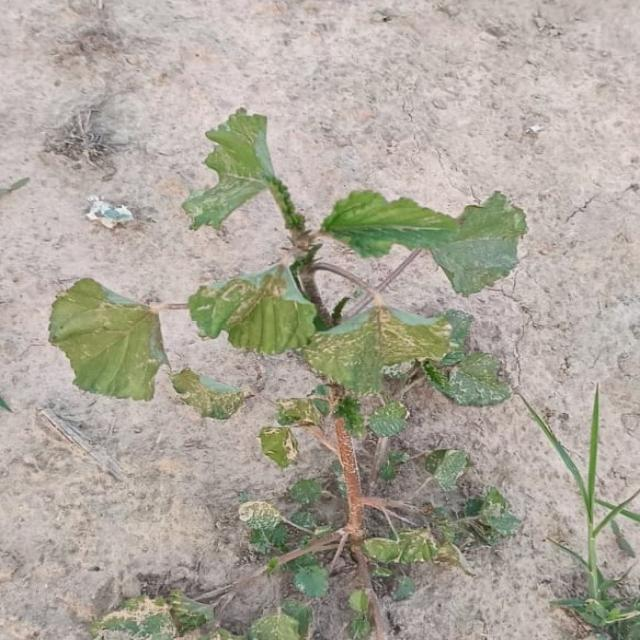weed: (48, 109, 527, 640)
